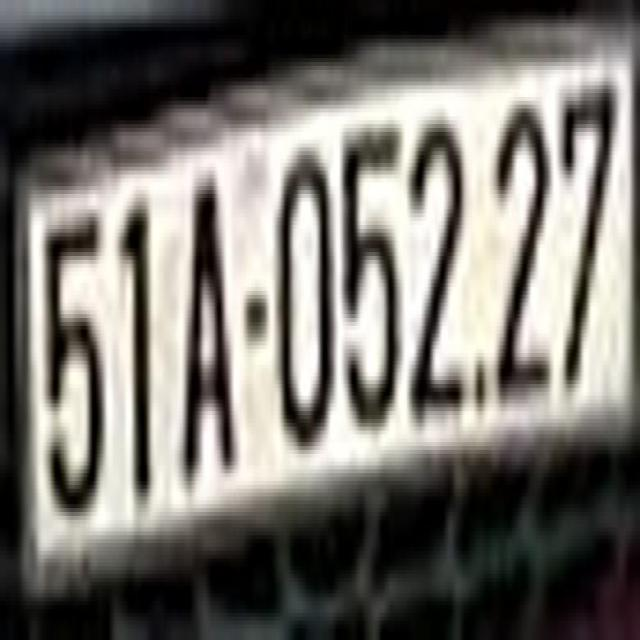0: (281, 144, 330, 430)
1: (118, 202, 155, 485)
2: (495, 100, 551, 396), (412, 109, 459, 411)
5: (338, 101, 400, 407), (44, 217, 104, 497)
7: (560, 89, 618, 392)
A: (183, 171, 232, 477)
